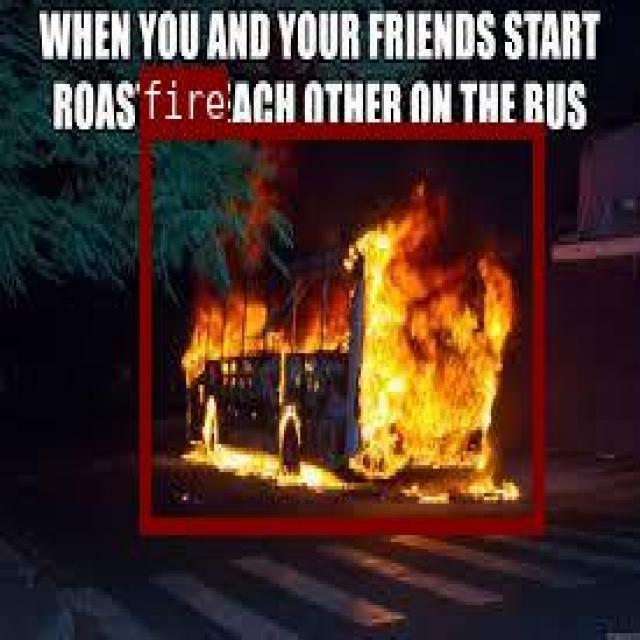fire: (139, 121, 541, 531)
